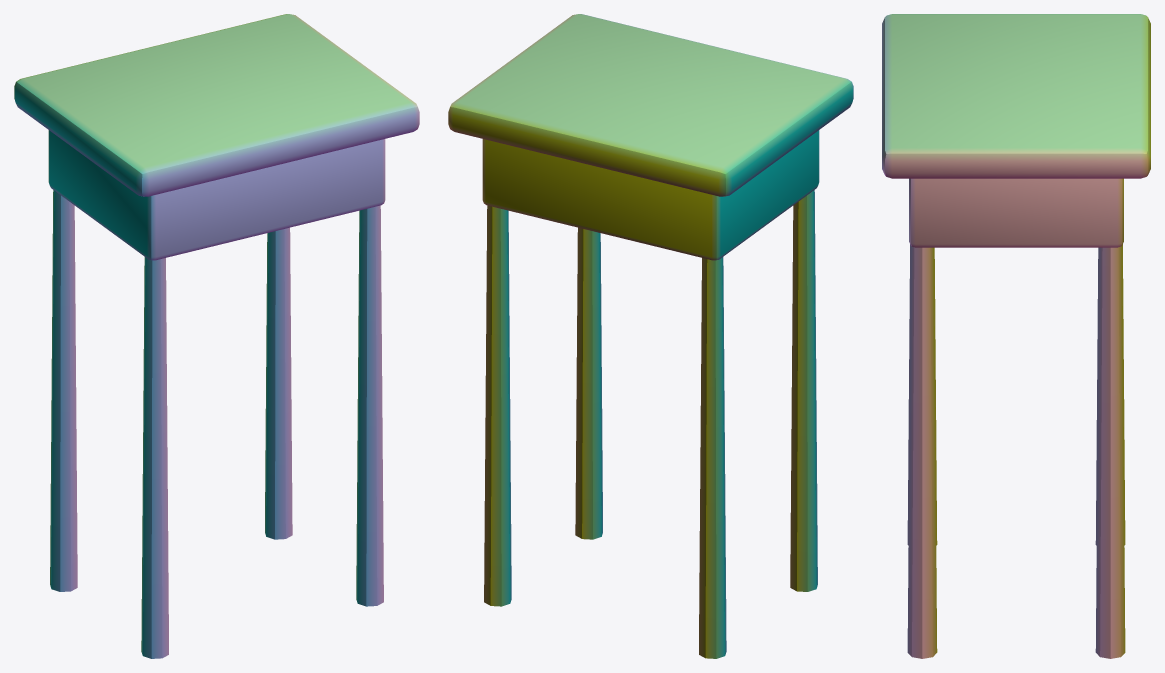
The model's file is phone_table.glb.
The picture shows the model from 3 angles, left to right: view 1: azimuth 30°, elevation 25°; view 2: azimuth 150°, elevation 25°; view 3: azimuth 270°, elevation 25°; orthographic projection. The views are drawn at different scales.
Parts seen in each view (by area): view 1: hall_phone_table; view 2: hall_phone_table; view 3: hall_phone_table.
Part boxes in pixels (bbox=[...]): hall_phone_table: bbox=[14, 14, 419, 658]; hall_phone_table: bbox=[448, 14, 853, 658]; hall_phone_table: bbox=[882, 14, 1150, 658].
Size of the model in its own units: 0.5 by 0.85 by 0.4.
